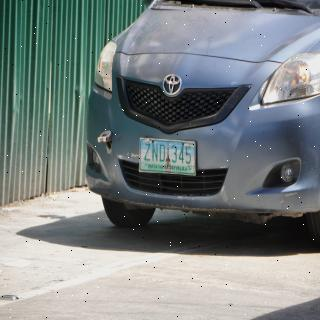license: (140, 138, 197, 177)
